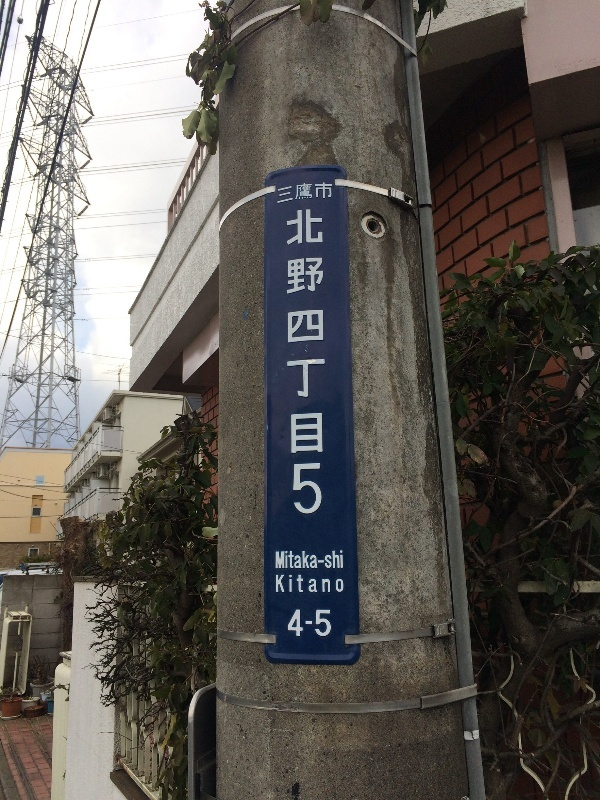text: (289, 208, 304, 519), (305, 208, 320, 519), (321, 208, 325, 519), (286, 208, 288, 519), (305, 608, 320, 638), (289, 178, 304, 204), (305, 178, 320, 204), (321, 608, 332, 638), (289, 574, 304, 595), (305, 574, 320, 595), (321, 574, 336, 595), (321, 178, 333, 204), (289, 550, 304, 570), (305, 550, 320, 570), (321, 550, 336, 570), (275, 574, 288, 595), (278, 178, 288, 204), (276, 550, 288, 570), (297, 608, 304, 638), (337, 574, 344, 595), (337, 550, 343, 570)
